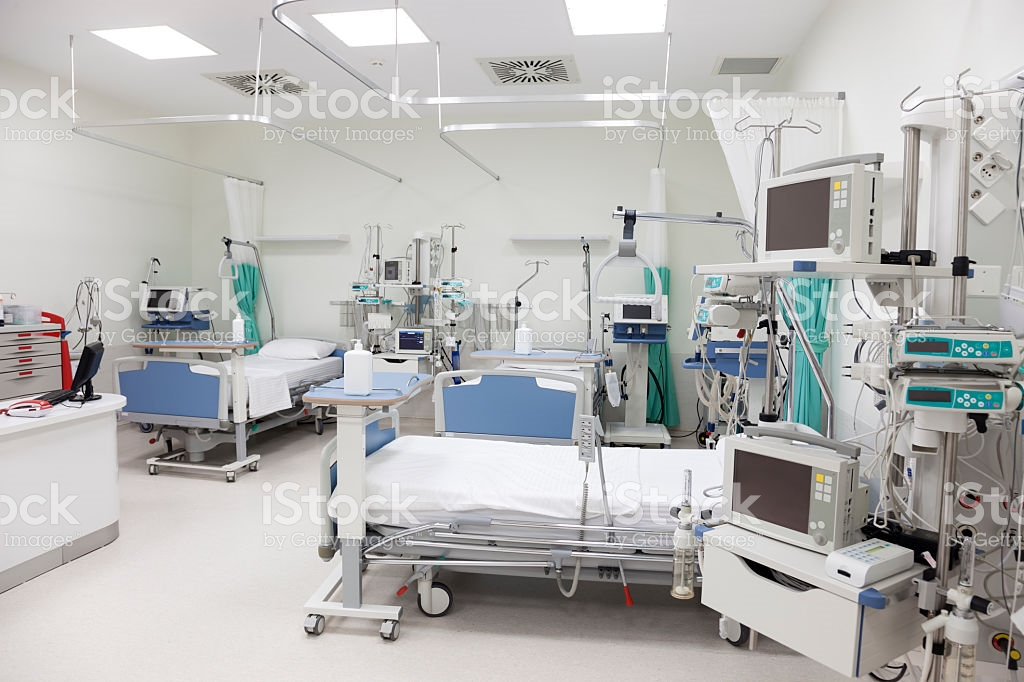bedside table: (297, 361, 424, 420)
hospital bed: (330, 410, 812, 545), (117, 334, 343, 417)
